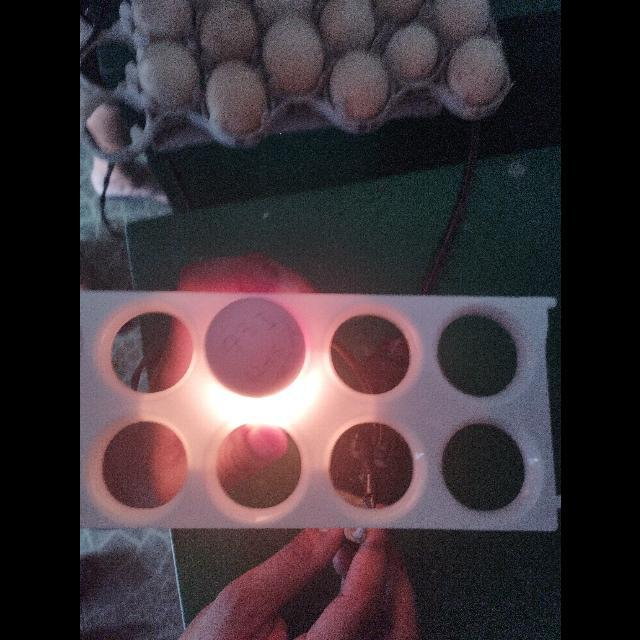Fertile: (202, 298, 310, 400)
